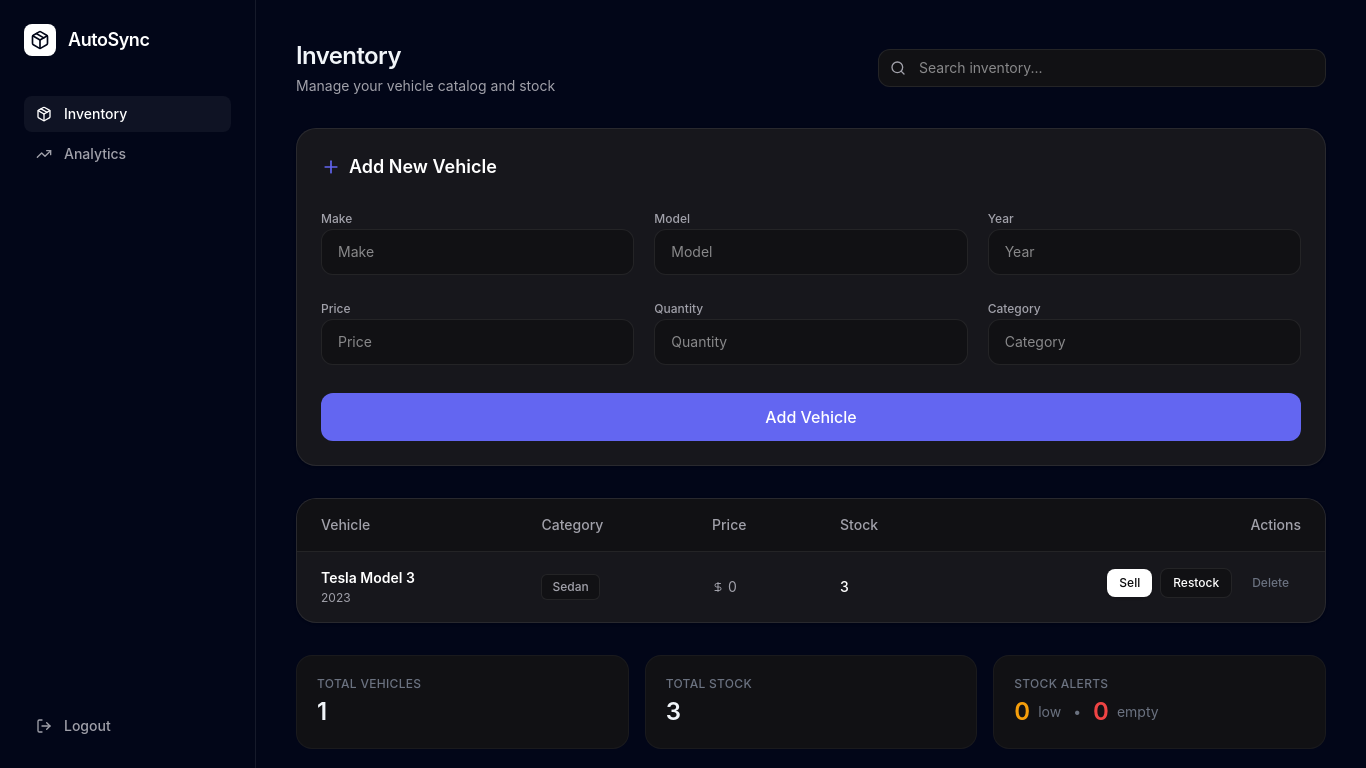
Dashboard Component › displays error if non-admin tries to delete a vehicle
The image size is (1366, 768).
Expected: the text "Tesla Model 3" is shown, [321,569,415,586]
Click the button "Delete" at (1271, 583), box [1240,569,1301,597]
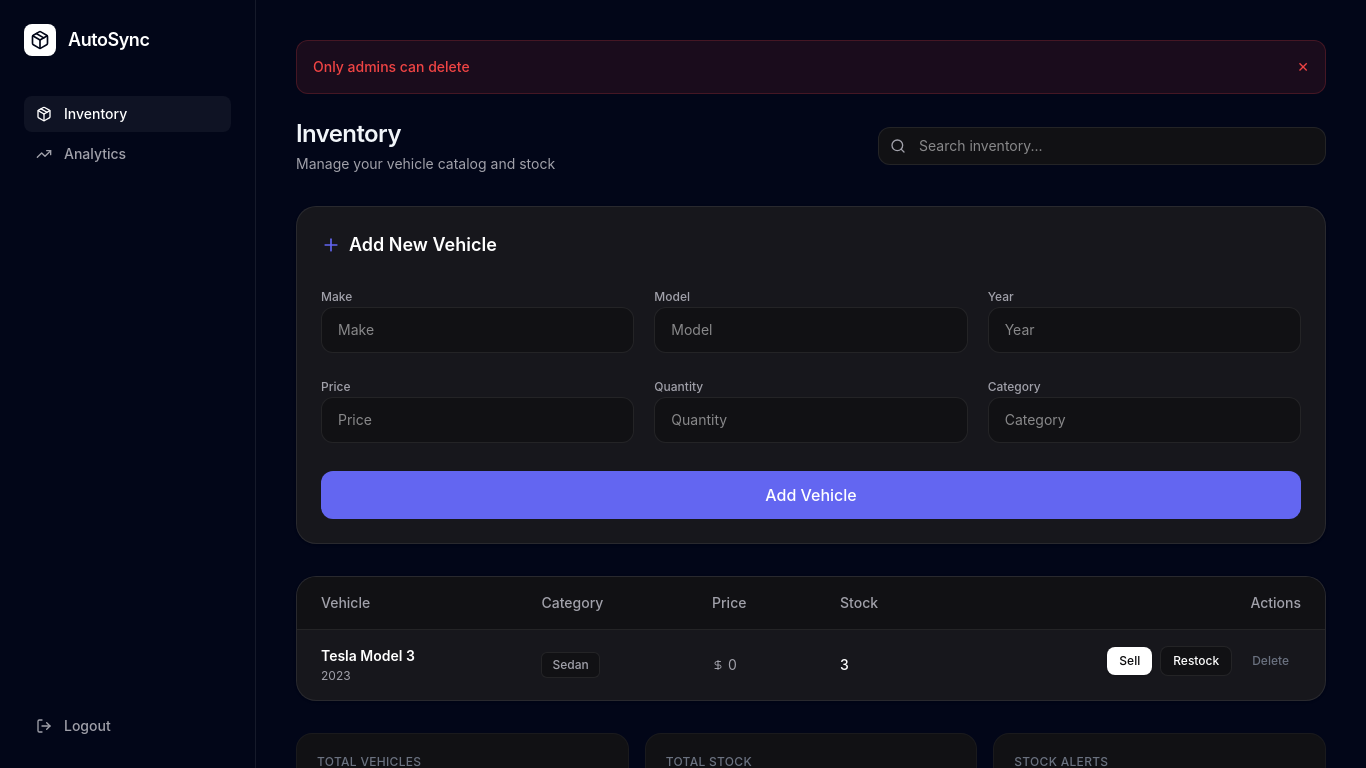
Expected: the text "Only admins can delete" is shown, [313,57,470,77]
